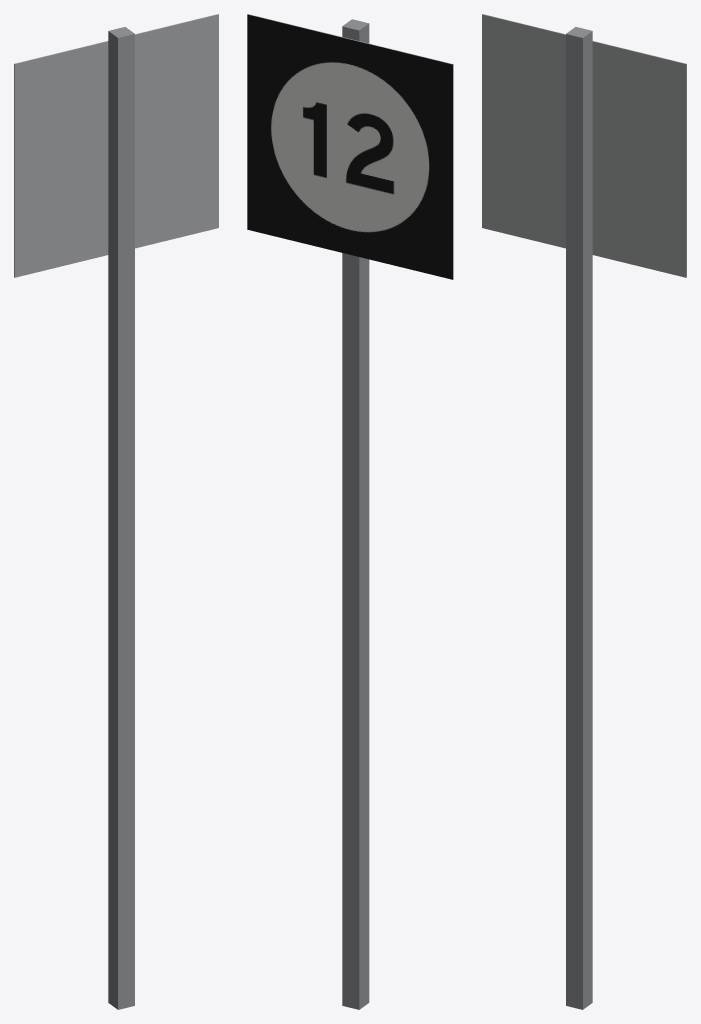
File: sign_m1-5_state_12.glb
The picture shows the model from 3 angles, left to right: view 1: azimuth 30°, elevation 25°; view 2: azimuth 150°, elevation 25°; view 3: azimuth 330°, elevation 25°; orthographic projection.
Parts seen in each view (by area): view 1: sign_m1-5_state_12; view 2: sign_m1-5_state_12; view 3: sign_m1-5_state_12.
Boxes of the visible parts, x1,y1,x2,y2 form: sign_m1-5_state_12: (14, 14, 218, 1009); sign_m1-5_state_12: (247, 14, 453, 1009); sign_m1-5_state_12: (482, 14, 686, 1009).
Bounding box in the file's own units: 0.6096 × 2.77 × 0.0538.
Materials: 3 (1 with a texture image).
